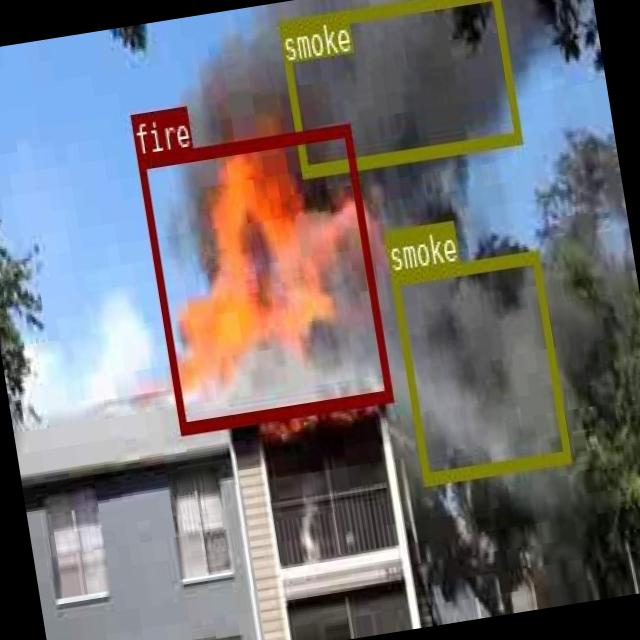fire: (137, 122, 392, 431)
smoke: (276, 0, 521, 176), (389, 248, 570, 484)
